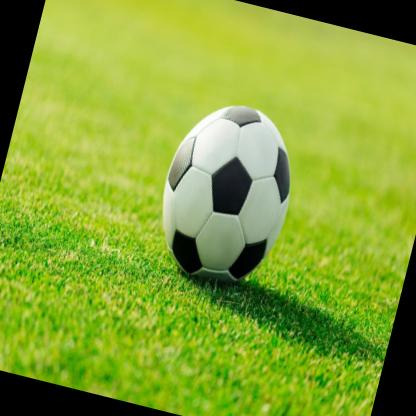ball: (144, 92, 309, 294)
